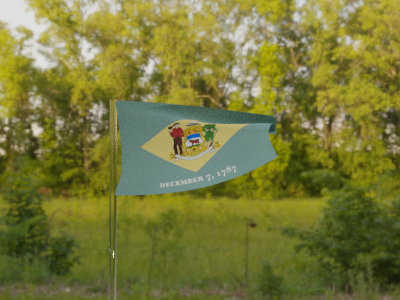Delaware flag: (114, 98, 279, 194)
